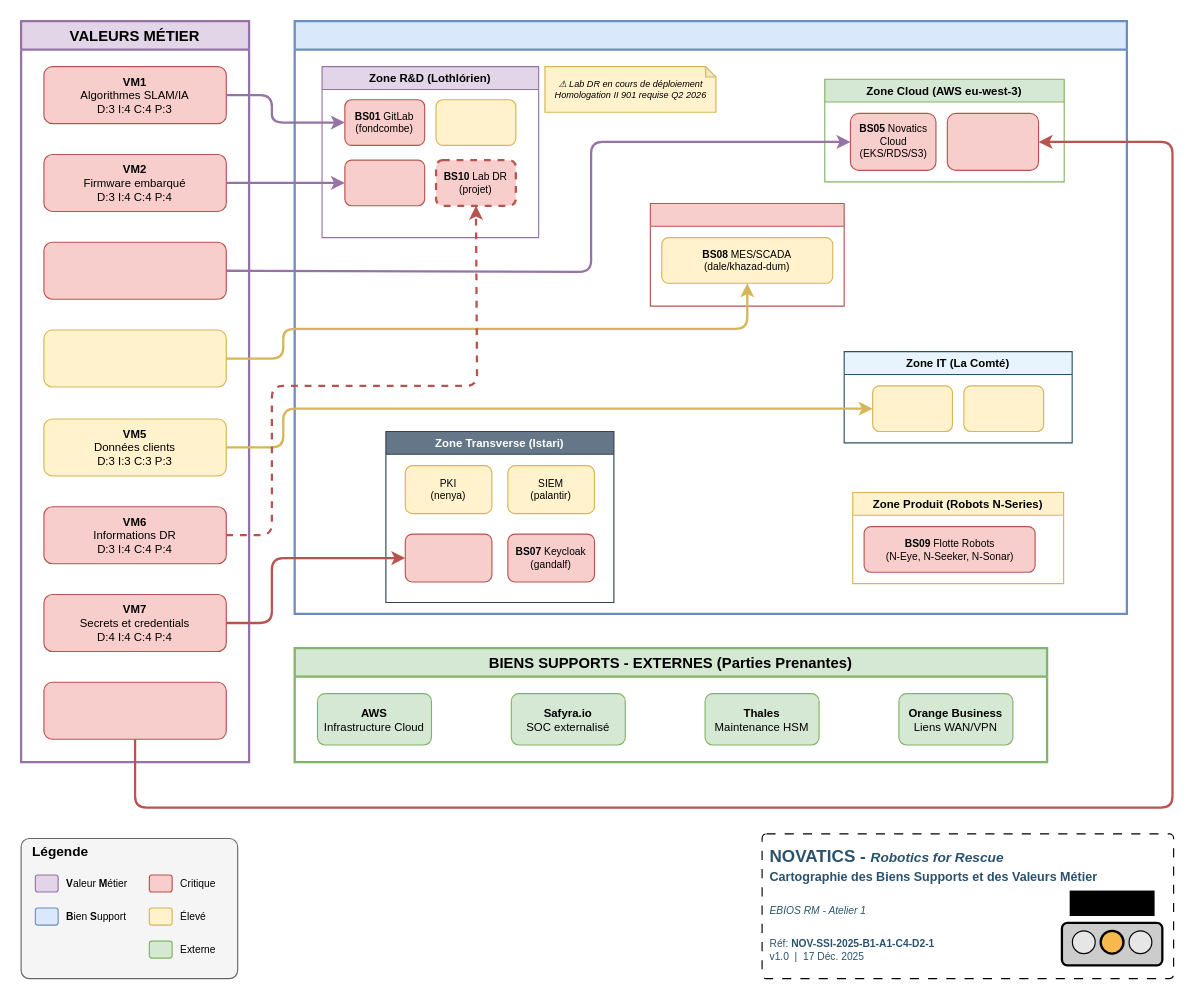
The diagram is 1202 pixels wide and 999 high, and some of its shapes have lost their labels. Each missing label, with the box of its shape:
BIENS SUPPORTS - INTERNES: (293, 19, 1127, 614)
BS02 GPU (fangorn): (435, 99, 516, 145)
BS03 HSM (anneau-unique): (344, 159, 425, 206)
BS04 Vault (miroir-galadriel): (404, 533, 492, 582)
BS06 NCC Backend (telperion): (946, 112, 1039, 170)
BS11 ERP Odoo (bree): (872, 385, 952, 431)
Mailcow (messager): (963, 385, 1044, 431)
TLP:AMBER: (1069, 890, 1154, 915)
VM3 Données missions terrain D:4 I:4 C:3 P:4: (43, 241, 226, 299)
VM4 Plans de production D:3 I:4 C:3 P:2: (43, 329, 226, 387)
VM8 Pilotage missions D:4 I:4 C:3 P:4: (43, 681, 226, 739)
Zone OT (Erebor - Chambéry): (649, 202, 844, 306)
